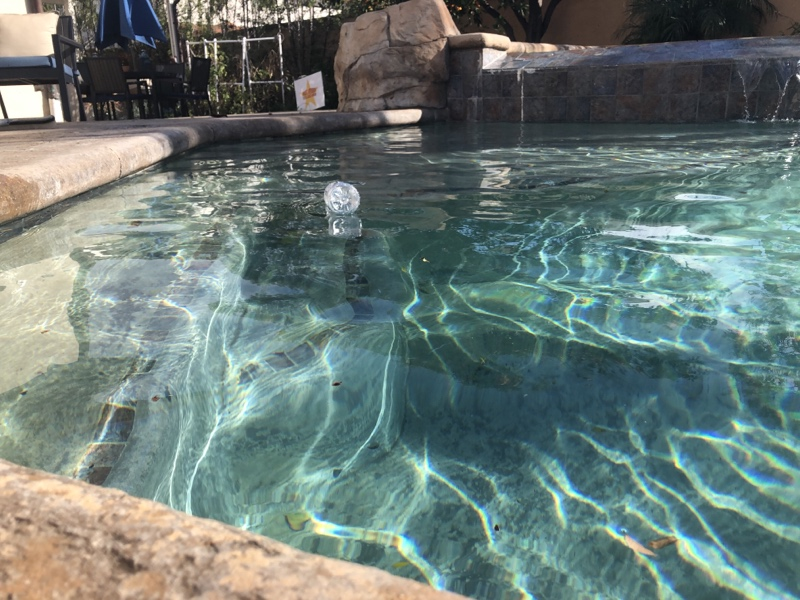Plastic Bottle: (321, 181, 361, 217)
